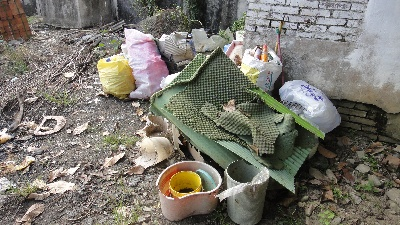bucket: (156, 160, 222, 222), (225, 159, 268, 225), (168, 171, 202, 200)
plastic_bag: (119, 27, 170, 101), (279, 79, 343, 136), (97, 55, 136, 101)
